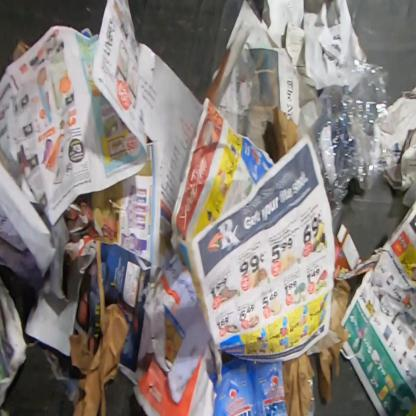cardboard: (68, 302, 131, 415), (318, 280, 352, 405), (334, 221, 390, 282), (281, 350, 317, 415), (272, 106, 298, 161), (11, 40, 31, 64)
soft_plastic: (295, 24, 399, 236), (306, 378, 315, 416)
